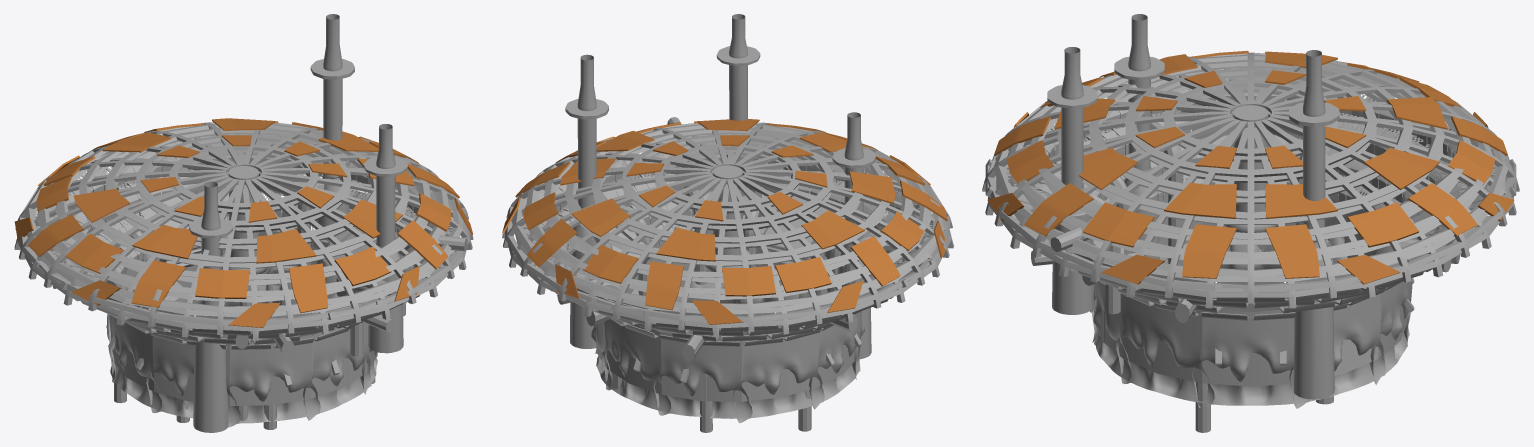
The model's file is arena_test2.fbx.
3 renders of one model, left to right at view 1: azimuth 30°, elevation 25°; view 2: azimuth 150°, elevation 25°; view 3: azimuth 270°, elevation 25°, orthographic. The views are drawn at different scales.
Parts seen in each view (by area): view 1: pPipe6 (×4), polySurface4, polySurface6, pSphere6, pCylinder22, pSphere7, polySurface3, pSphere8, pCylinder21, polySurface8, pSphere5, pSphere24 (+29 smaller); view 2: pPipe6 (×5), polySurface7, polySurface8, pSphere10, pSphere1, polySurface5, pSphere9, pCylinder20, pSphere30, pSphere2, pSphere8, pSphere26 (+28 smaller); view 3: pPipe6 (×6), polySurface1, polySurface2, pCylinder20, pSphere4, pSphere3, polySurface5, pSphere5, polySurface3, pCylinder21, pSphere2, pSphere29 (+32 smaller).
Boxes of the visible parts, bbox=[...] form: pPipe6 (×4): bbox=[108, 315, 371, 427]; polySurface4: bbox=[195, 201, 327, 327]; polySurface6: bbox=[66, 196, 204, 307]; pSphere6: bbox=[248, 177, 414, 333]; pCylinder22: bbox=[189, 181, 233, 432]; pSphere7: bbox=[150, 179, 291, 334]; polySurface3: bbox=[297, 186, 448, 301]; pSphere8: bbox=[45, 176, 235, 326]; pCylinder21: bbox=[363, 124, 407, 353]; polySurface8: bbox=[14, 176, 179, 256]; pSphere5: bbox=[258, 173, 472, 302]; pSphere24: bbox=[184, 185, 326, 340]; pPipe6 (×5): bbox=[591, 311, 860, 423]; polySurface7: bbox=[645, 200, 775, 324]; polySurface8: bbox=[767, 192, 900, 312]; pSphere10: bbox=[681, 178, 819, 331]; pSphere1: bbox=[560, 177, 723, 330]; polySurface5: bbox=[527, 185, 675, 298]; pSphere9: bbox=[735, 175, 923, 323]; pCylinder20: bbox=[565, 54, 608, 348]; pSphere30: bbox=[716, 184, 850, 337]; pSphere2: bbox=[503, 172, 714, 300]; pSphere8: bbox=[743, 170, 952, 284]; pSphere26: bbox=[585, 183, 726, 337]; pPipe6 (×6): bbox=[1093, 245, 1412, 408]; polySurface1: bbox=[1082, 145, 1236, 284]; polySurface2: bbox=[1265, 145, 1419, 284]; pCylinder20: bbox=[1289, 50, 1339, 399]; pSphere4: bbox=[1093, 120, 1250, 303]; pSphere3: bbox=[1251, 120, 1408, 303]; polySurface5: bbox=[1325, 126, 1514, 236]; pSphere5: bbox=[995, 115, 1237, 281]; polySurface3: bbox=[987, 126, 1184, 236]; pCylinder21: bbox=[1047, 47, 1097, 314]; pSphere2: bbox=[1264, 115, 1506, 281]; pSphere29: bbox=[1129, 127, 1292, 308].
Bounding box in the file's own units: 68.3 × 53.71 × 68.3.
